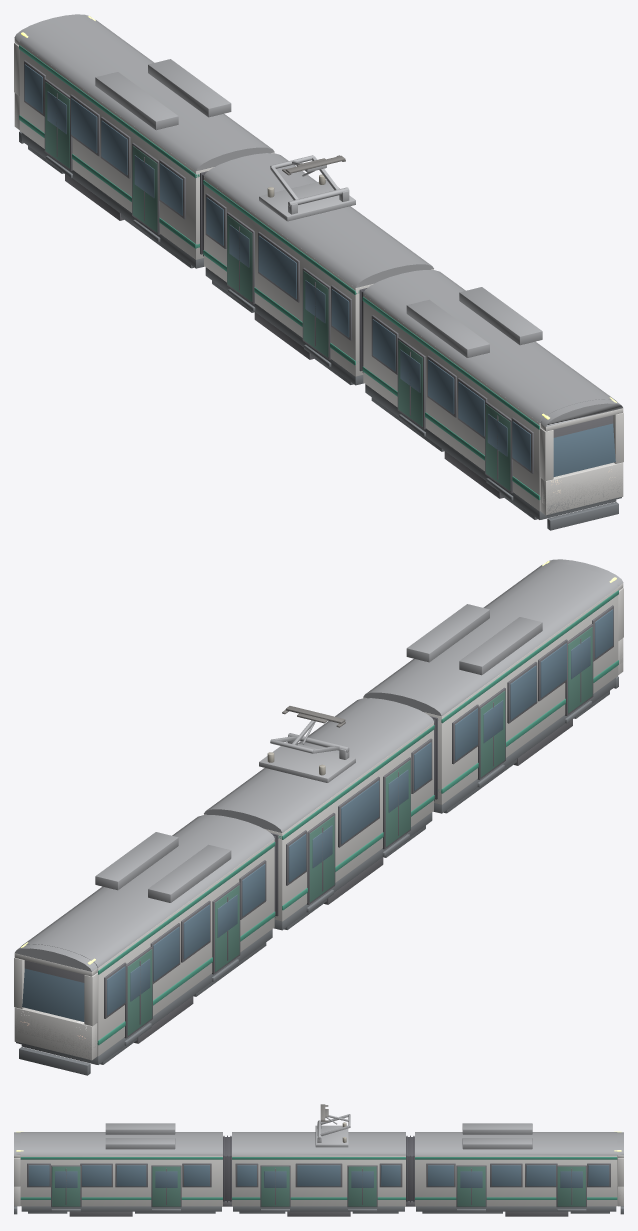
File: th17_tram.glb
3 views of the same model, one above another, from view 1: azimuth 30°, elevation 25°; view 2: azimuth 150°, elevation 25°; view 3: azimuth 270°, elevation 25° (orthographic). The views are drawn at different scales.
Visible parts, largest first — view 1: Cylinder.030, Cylinder.032, Cylinder.031, Cube.024, Cube.036, Cube.030, Cube.166, Cube.171, Cube.162, Cube.164, Cube.163, Cube.165 (+29 smaller); view 2: Cylinder.032, Cylinder.030, Cylinder.031, Cube.036, Cube.024, Cube.030, Cube.180, Cube.185, Cube.163, Cube.165, Cube.162, Cube.164 (+29 smaller); view 3: Cube.024, Cube.036, Cube.030, Cylinder.030, Cylinder.032, Cylinder.031, Cube.025, Cube.037, Cube.115, Cube.162, Cube.163, Cube.164 (+57 smaller).
Boxes of the visible parts, x1,y1,x2,y2 form: Cylinder.030: [19, 18, 274, 171]; Cylinder.032: [363, 270, 616, 422]; Cylinder.031: [204, 153, 433, 287]; Cube.024: [19, 43, 274, 259]; Cube.036: [363, 294, 540, 511]; Cube.030: [204, 177, 433, 376]; Cube.166: [540, 462, 623, 515]; Cube.171: [553, 423, 615, 476]; Cube.162: [95, 72, 178, 130]; Cube.164: [148, 59, 231, 117]; Cube.163: [406, 299, 489, 357]; Cube.165: [459, 287, 542, 345]; Cylinder.032: [363, 563, 618, 716]; Cylinder.030: [21, 815, 274, 967]; Cylinder.031: [204, 698, 433, 832]; Cube.036: [363, 588, 618, 804]; Cube.024: [97, 839, 274, 1056]; Cube.030: [204, 722, 433, 921]; Cube.180: [14, 1007, 97, 1060]; Cube.185: [22, 968, 84, 1021]; Cube.163: [459, 617, 542, 675]; Cube.165: [406, 604, 489, 662]; Cube.162: [148, 844, 231, 902]; Cube.164: [95, 832, 178, 890]; Cube.024: [415, 1155, 617, 1206]; Cube.036: [20, 1155, 222, 1206]; Cube.030: [232, 1155, 405, 1206]; Cylinder.030: [415, 1132, 617, 1155]; Cylinder.032: [20, 1132, 222, 1155]; Cylinder.031: [232, 1132, 405, 1155]; Cube.025: [416, 1206, 616, 1211]; Cube.037: [21, 1206, 221, 1211]; Cube.115: [297, 1165, 340, 1186]; Cube.162: [462, 1123, 532, 1134]; Cube.163: [105, 1123, 175, 1134]; Cube.164: [462, 1138, 532, 1149].
Size of the model in its own units: 2.55 by 4.95 by 28.
